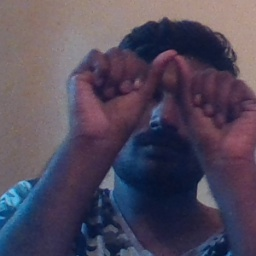A: (83, 46, 252, 149)
